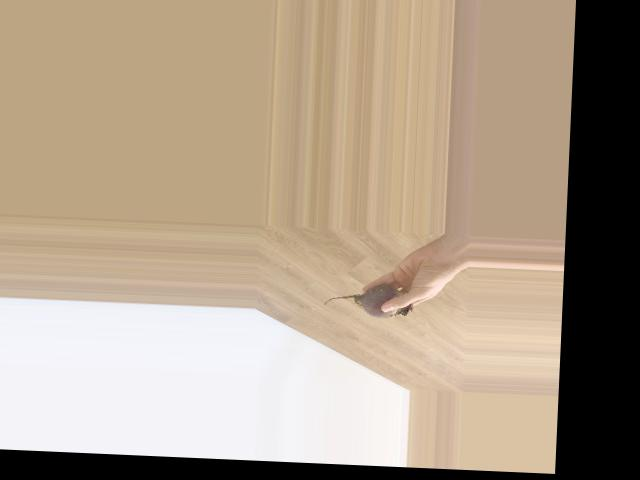beet: (322, 283, 413, 318)
